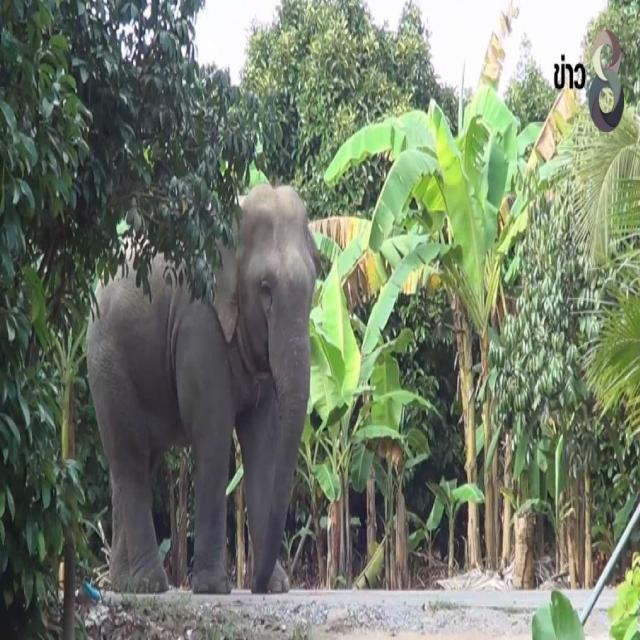Elephant: (81, 154, 338, 614)
